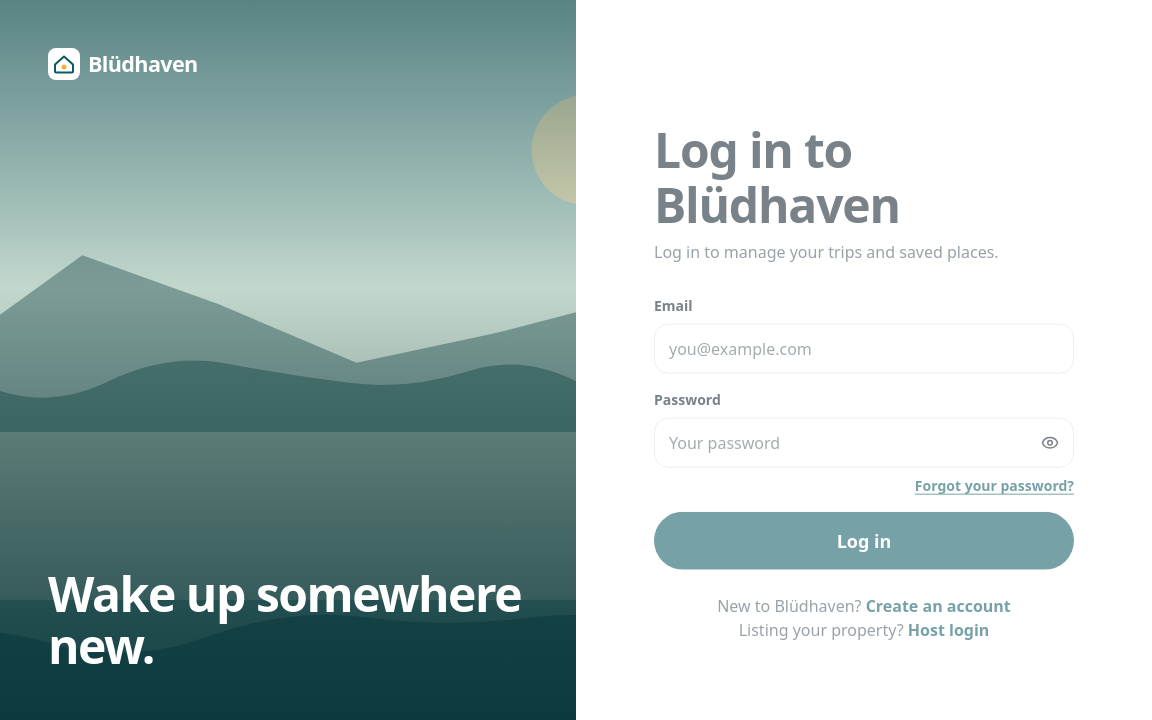
Login with an unverified account › clears the verification prompt when the person tries again
In the field labelled "Email": (864,349) [654, 324, 1074, 374], type "ada@example.com"
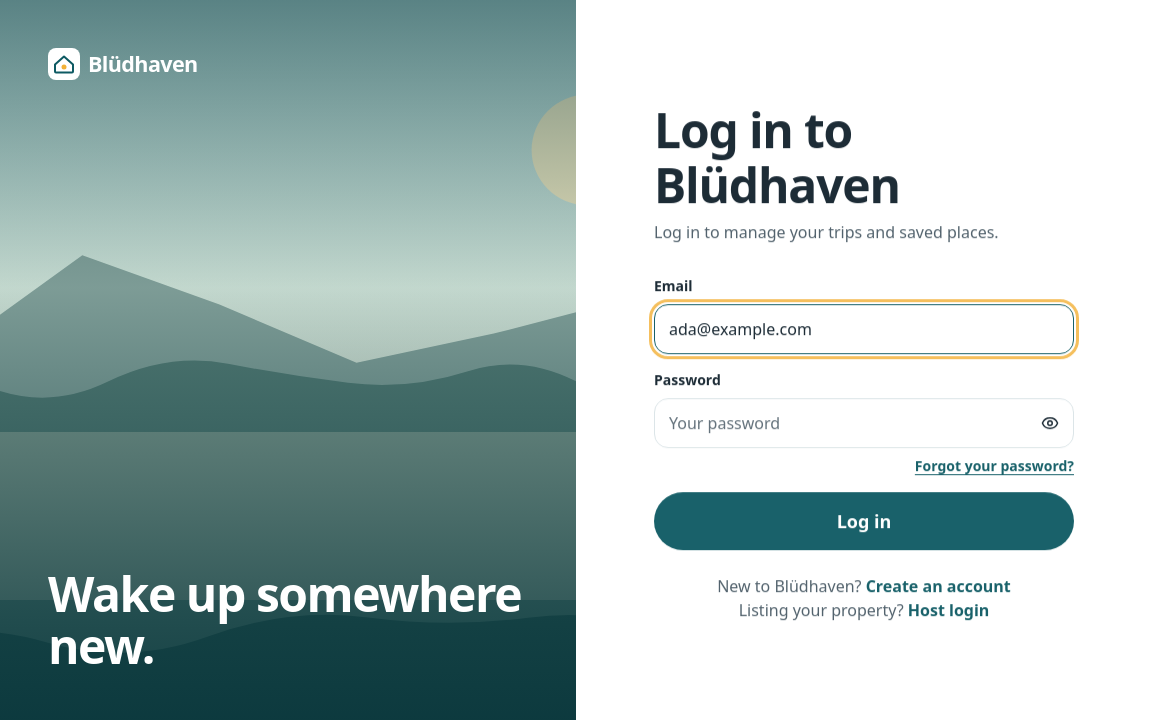
In the password field labelled "Password": (864,423) [654, 398, 1074, 448], type "Secret-pass-123"
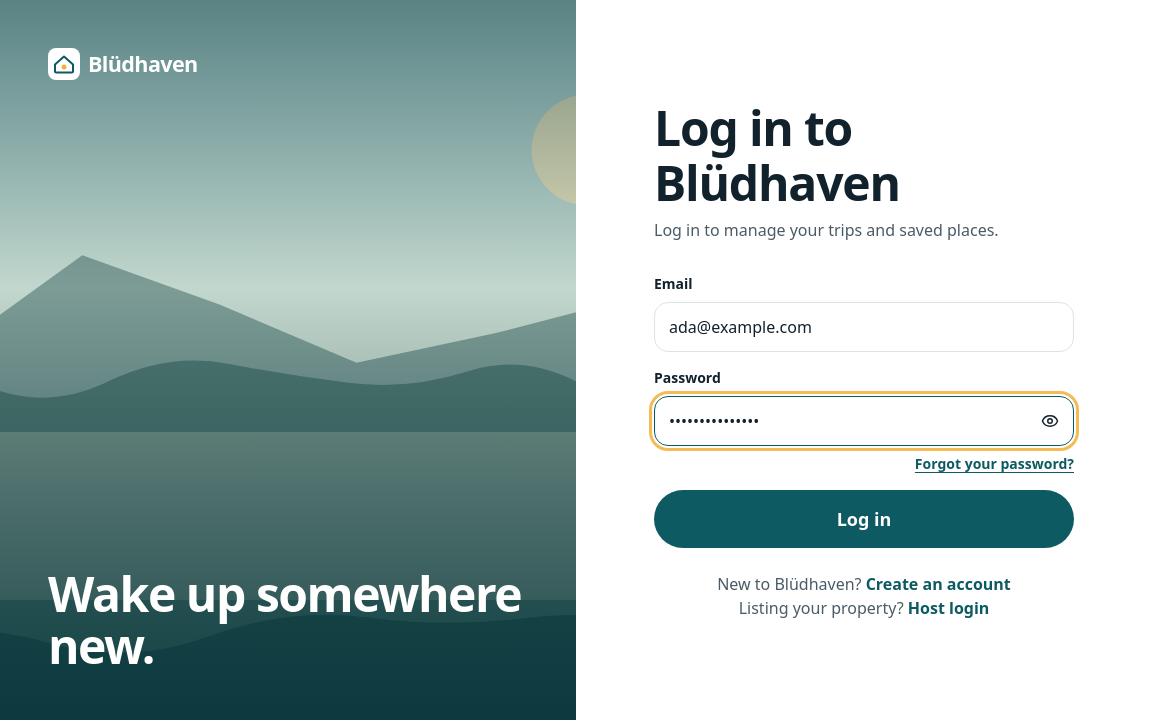
Click the button "Log in": (864,519) [654, 490, 1074, 548]
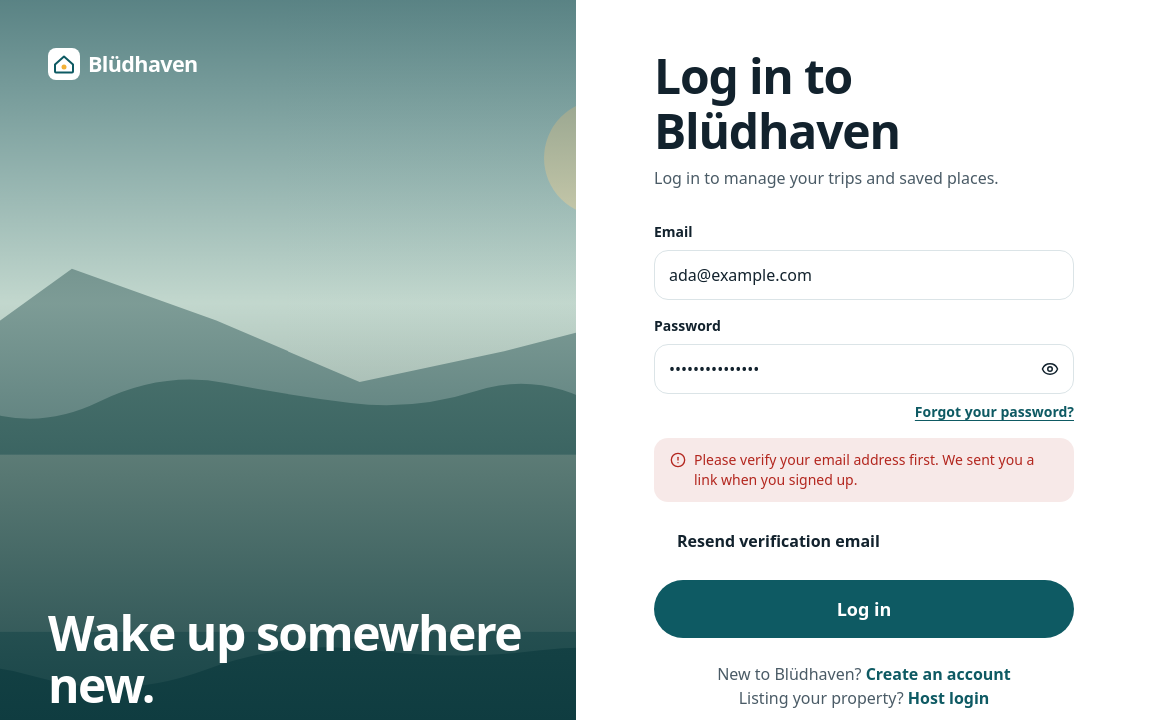
Expected: the button "Resend verification email" is shown, [654, 518, 903, 564]
Click the button "Log in": (864,609) [654, 580, 1074, 638]
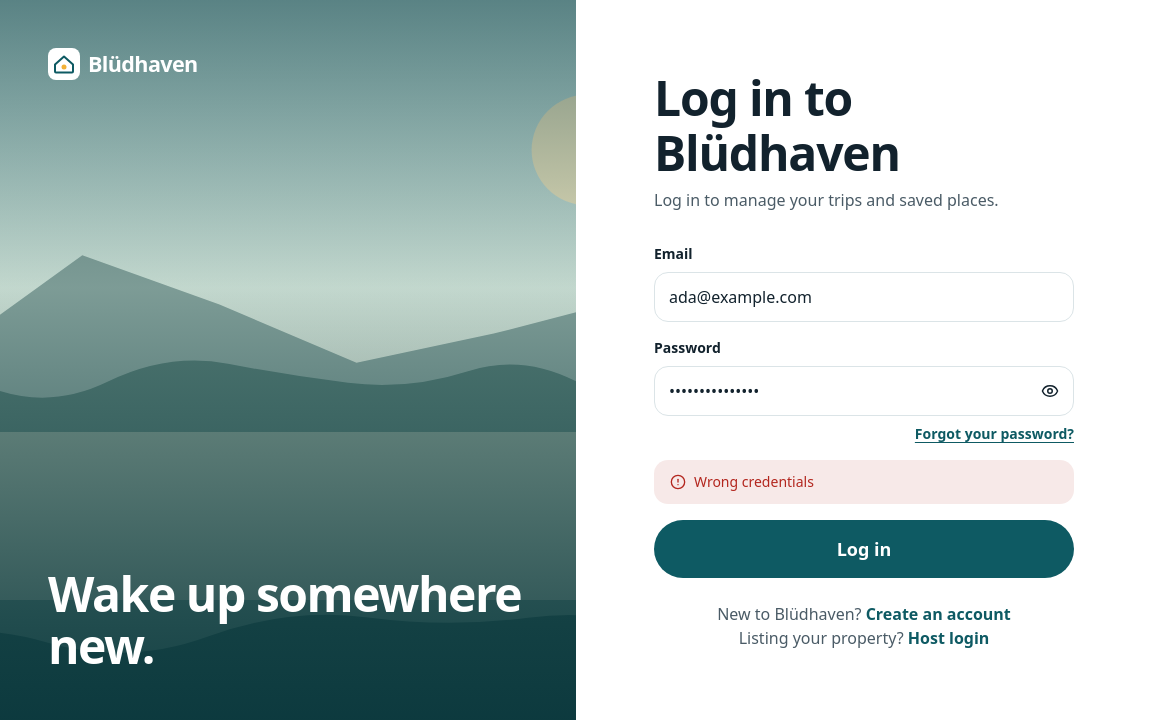
Expected: the text "Wrong credentials" is shown, [694, 472, 814, 492]
Expected: the button "Resend verification email" is gone
